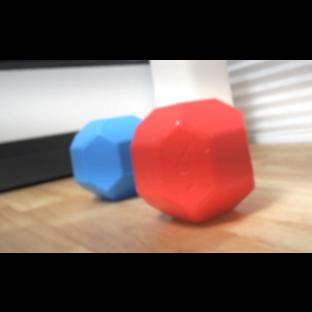V5_BLUE: (70, 114, 141, 199)
V5_RED: (131, 98, 254, 221)
